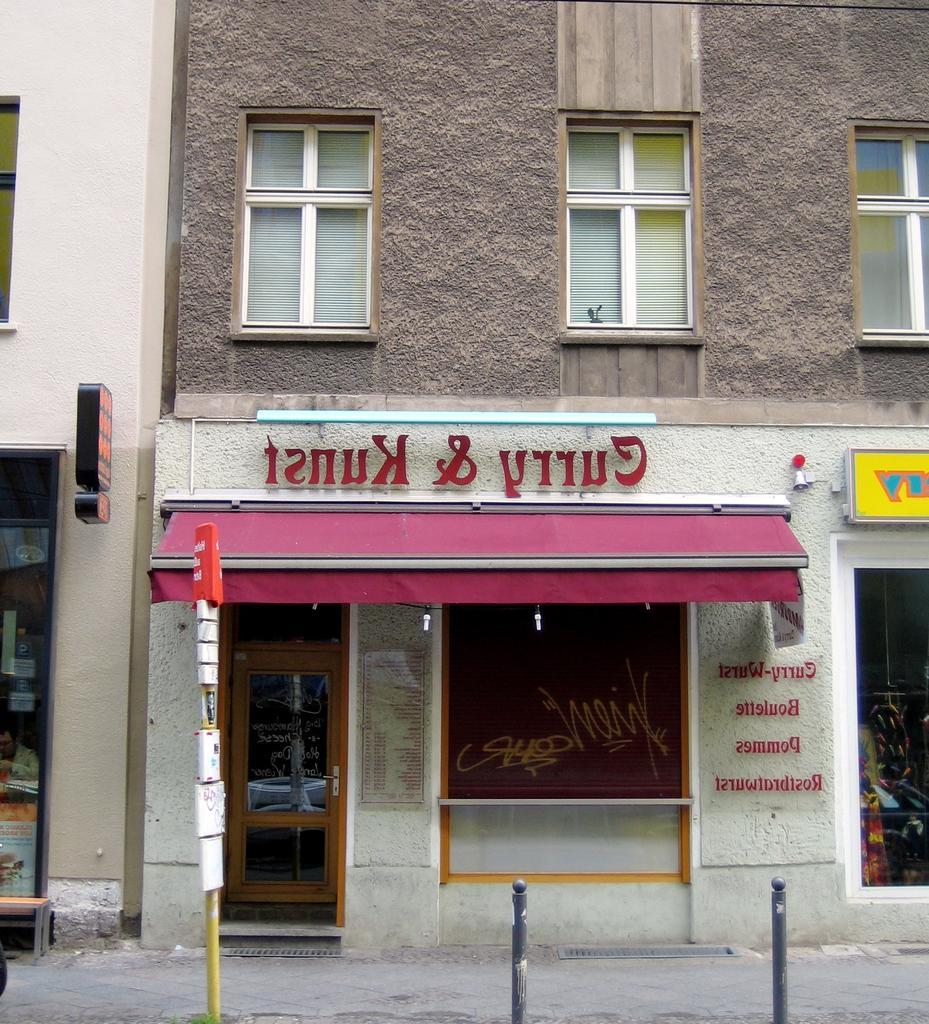door: (225, 614, 340, 914)
handle: (321, 764, 342, 798)
